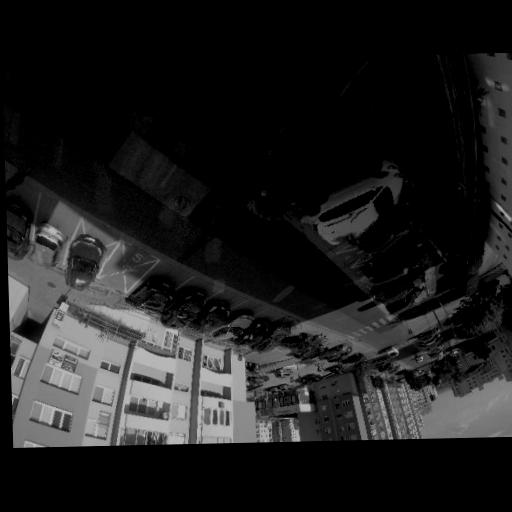busy: (243, 119, 330, 223), (304, 161, 403, 250), (350, 205, 413, 257), (370, 252, 425, 297), (363, 243, 421, 284), (61, 236, 109, 285), (162, 290, 209, 328), (373, 272, 424, 305), (6, 198, 35, 254), (132, 277, 176, 312), (29, 228, 67, 266), (191, 301, 230, 333), (212, 311, 252, 341), (253, 324, 291, 353), (232, 318, 270, 346), (297, 334, 329, 359), (280, 332, 311, 354), (322, 345, 349, 363)
